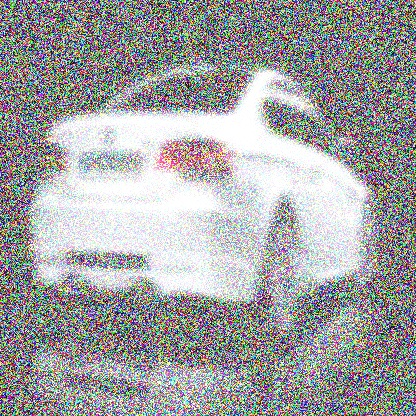Vehicle: (29, 56, 381, 346)
